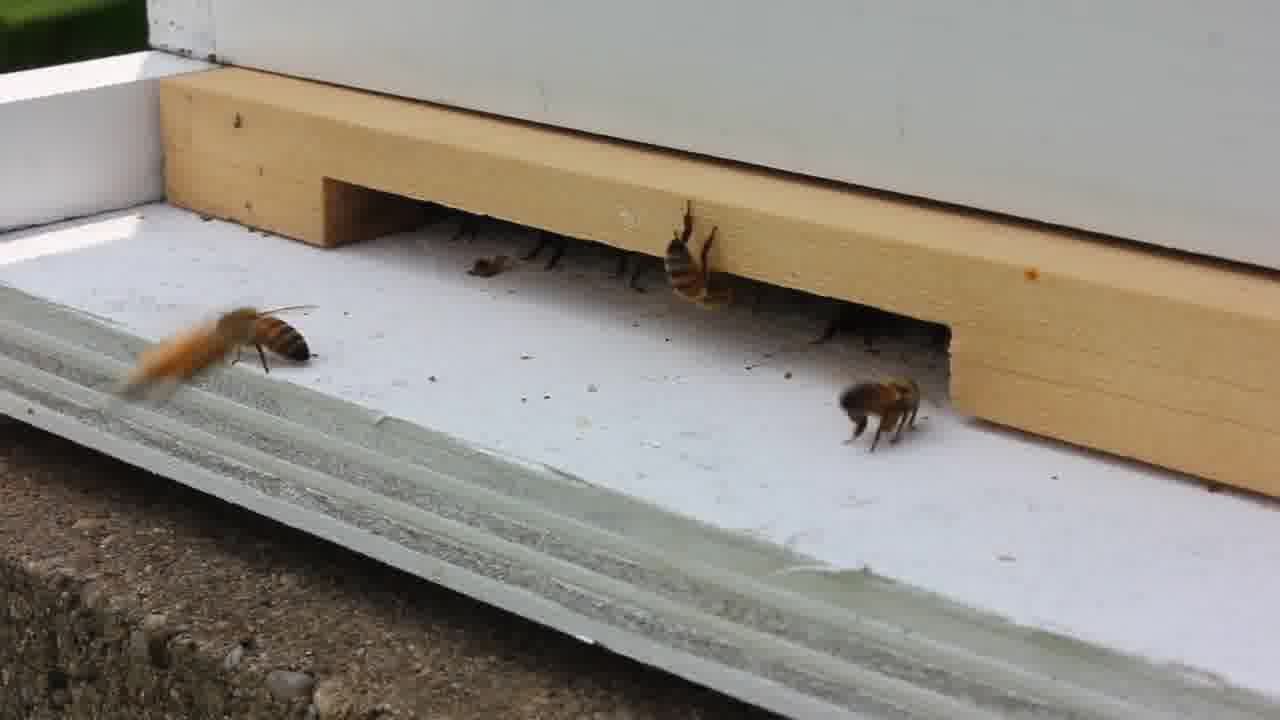pollen: (832, 378, 926, 447)
